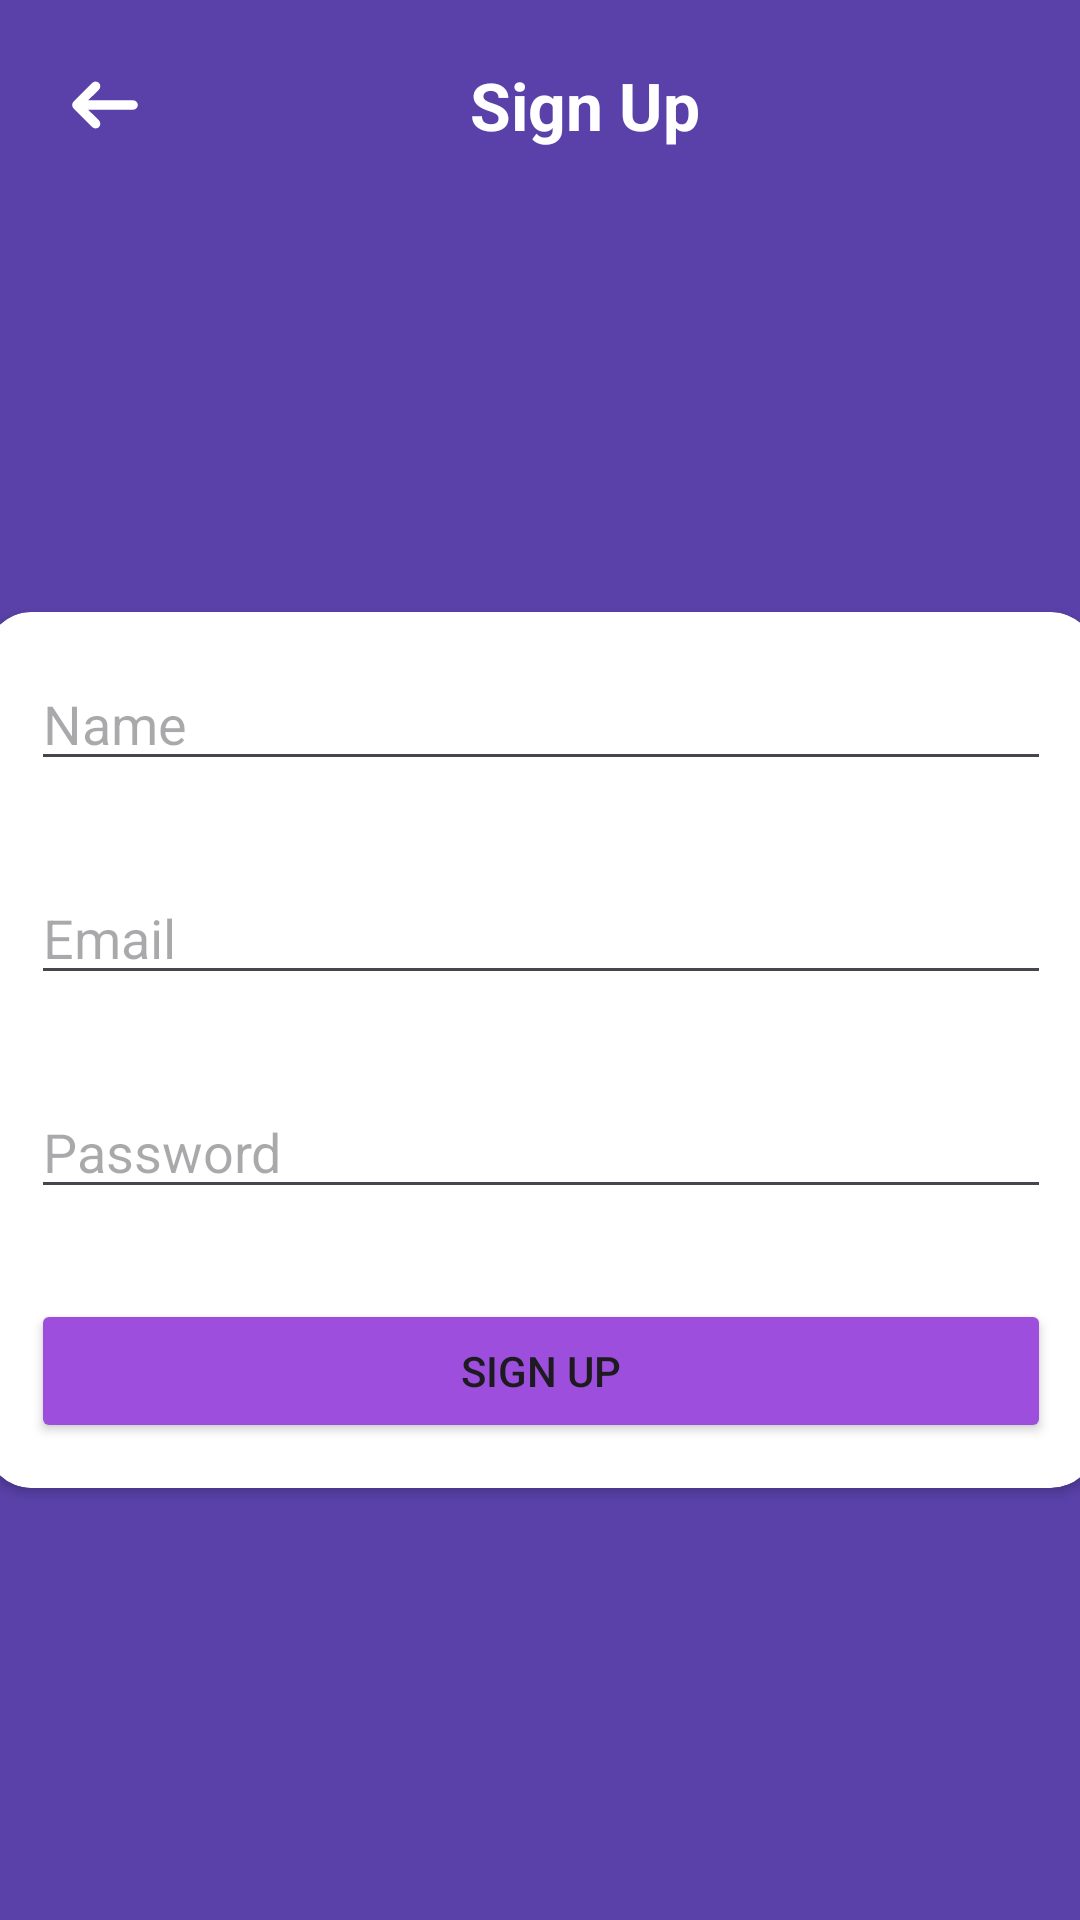

Named icons in this screenshot (1080px×1920px) and their bounding boxes, rect(x1, y1, x2, y2):
Back Button: rect(72, 81, 138, 129)
